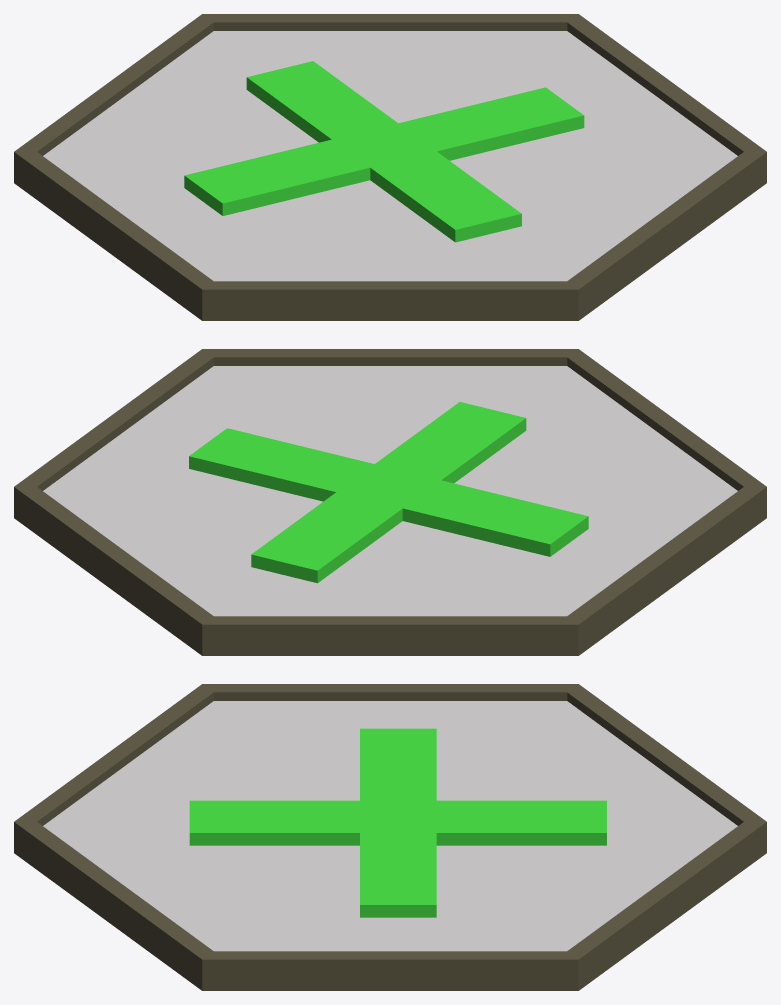
Rendered from HealDice.fbx.
The picture shows the model from 3 angles, top to bottom: view 1: azimuth 30°, elevation 25°; view 2: azimuth 150°, elevation 25°; view 3: azimuth 270°, elevation 25°; orthographic projection.
Parts seen in each view (by area): view 1: Heal; view 2: Heal; view 3: Heal.
Part boxes in pixels (<box>): Heal: <box>14,14,766,320</box>; Heal: <box>14,349,766,655</box>; Heal: <box>14,684,766,990</box>.
Size of the model in its own units: 314 by 18.8 by 363.
